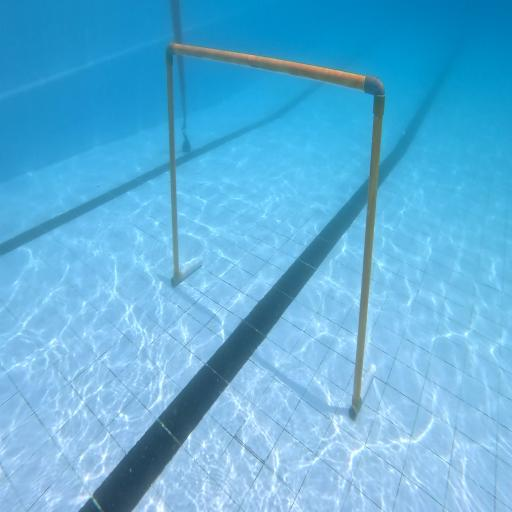gate: (166, 43, 382, 422)
